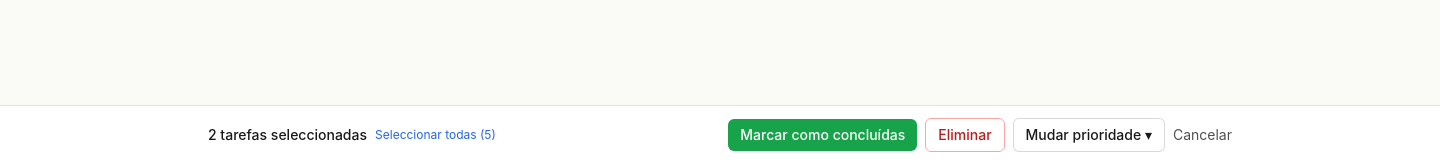
Test: <BulkActionsBar> › bulk priority partial failure → banner partial PT-PT
The width and height of the screenshot is (1440, 164).
Click the button "Mudar prioridade ▾". click: (1089,135)
box: [1012,118,1165,152]
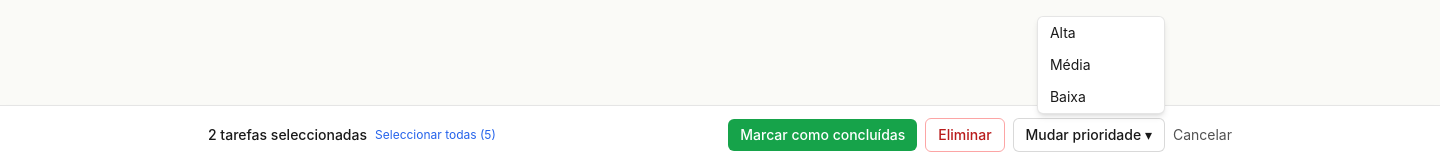
Click the menu item "Alta". click: (1101,33)
box: [1038,17,1164,49]
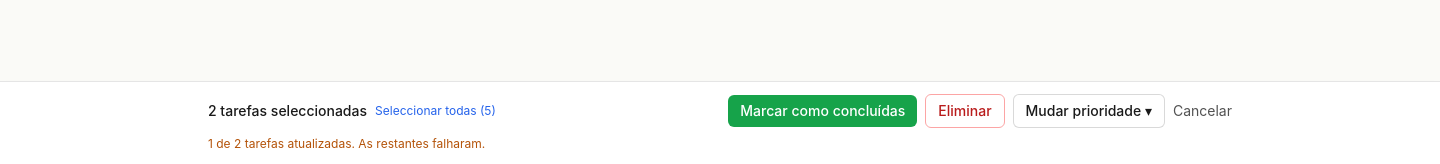
Check: the message shows "1 de 2 tarefas atualizadas", box [208,136,485,151]
